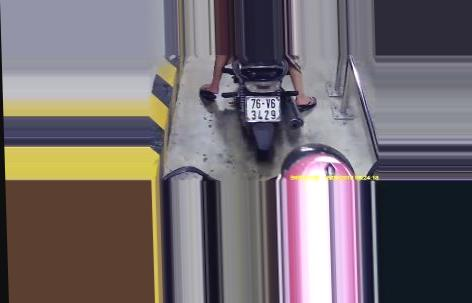License_Plate: (241, 93, 284, 127)
